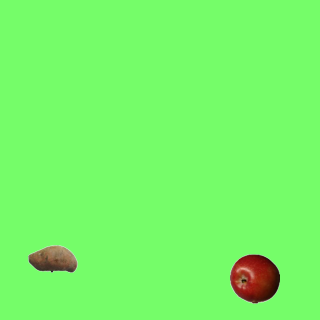Apple Braeburn: (229, 253, 279, 303)
Potato Sweet: (27, 233, 77, 283)
